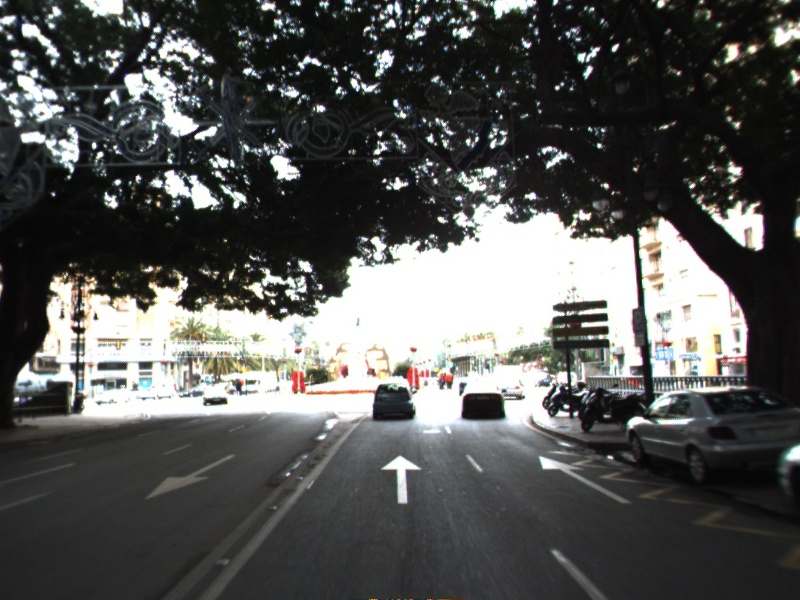STRAIGHT: (537, 454, 635, 505), (379, 453, 425, 506)
